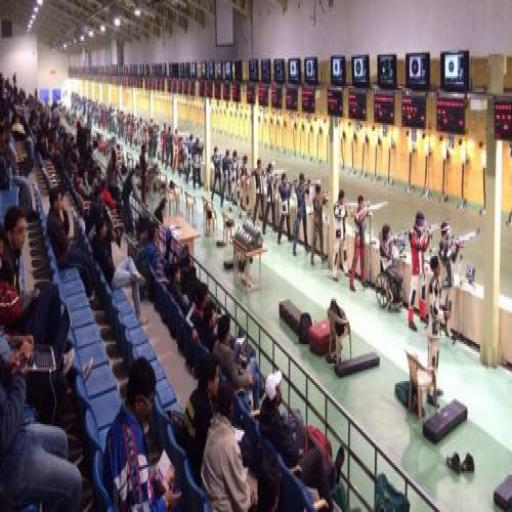shooting: (430, 206, 468, 348), (378, 216, 421, 324), (406, 202, 440, 334), (347, 186, 379, 292), (224, 140, 258, 228), (257, 164, 286, 259), (250, 138, 277, 238), (309, 168, 334, 275), (293, 171, 321, 258), (332, 192, 356, 288), (276, 168, 300, 252), (238, 148, 261, 235), (194, 135, 218, 202), (209, 135, 230, 211), (160, 116, 181, 184), (156, 104, 173, 170), (183, 129, 199, 186), (152, 115, 168, 166), (220, 150, 236, 201), (173, 126, 185, 182), (146, 114, 162, 153), (178, 130, 190, 177), (149, 113, 160, 160)
